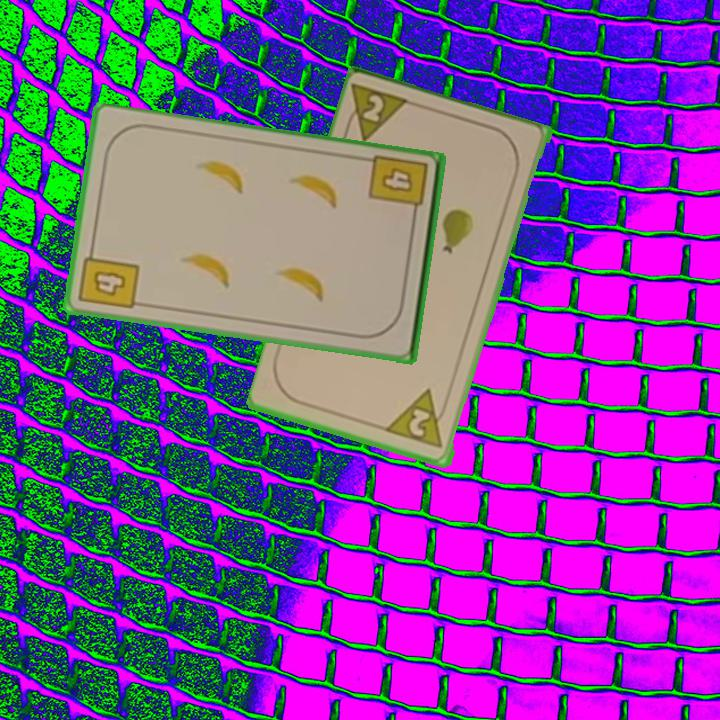2p: (340, 80, 415, 146), (384, 386, 451, 452)
4b: (365, 152, 431, 224), (75, 244, 142, 312)
